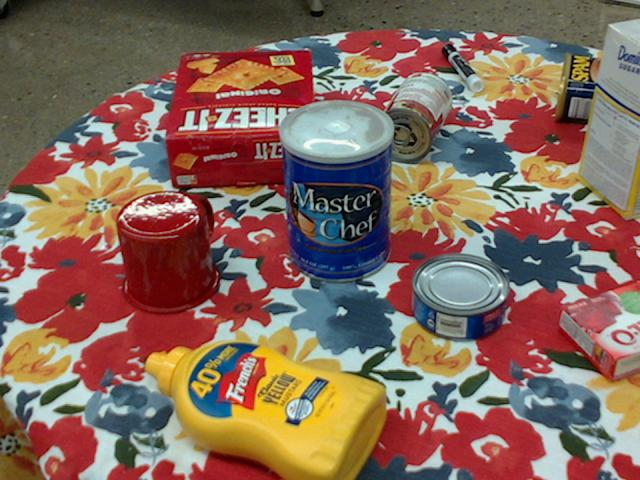cracker_box: (165, 49, 318, 185)
gelatin_box: (559, 281, 639, 380)
large_marker: (443, 43, 483, 90)
master_chef_can: (277, 99, 392, 282)
mug: (115, 190, 220, 314)
mustard_bottle: (145, 339, 388, 479)
potted_meat_can: (553, 49, 633, 124)
sugar_box: (576, 20, 639, 220)
tomato_soup_can: (374, 70, 451, 162)
tuna_fish_can: (412, 253, 510, 341)
